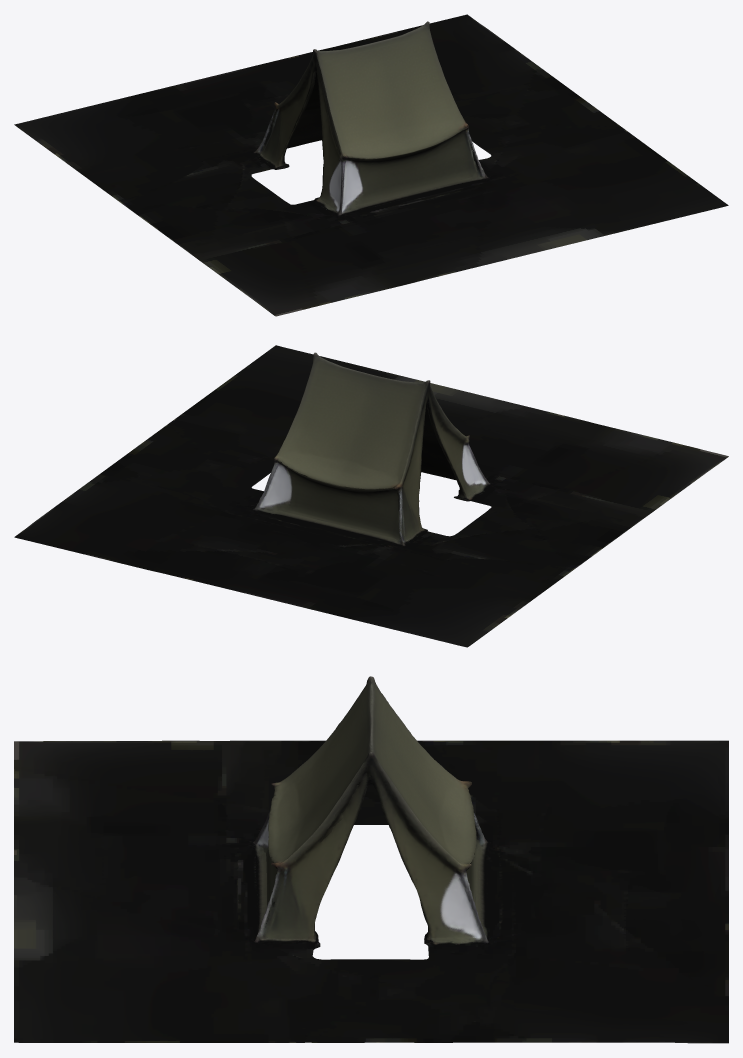
File: tent.glb
The picture shows the model from 3 angles, top to bottom: view 1: azimuth 30°, elevation 25°; view 2: azimuth 150°, elevation 25°; view 3: azimuth 270°, elevation 25°; orthographic projection. The views are drawn at different scales.
Parts seen in each view (by area): view 1: geometry_0; view 2: geometry_0; view 3: geometry_0.
Boxes of the visible parts, left/top/right/bottom form: geometry_0: left=14, top=14, right=728, bottom=316; geometry_0: left=14, top=345, right=728, bottom=647; geometry_0: left=14, top=676, right=728, bottom=1043.
Bounding box in the file's own units: 1 × 0.2758 × 1.
Materials: 1 (1 with a texture image).
